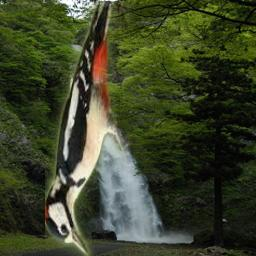Woodpecker: (45, 1, 135, 256)
